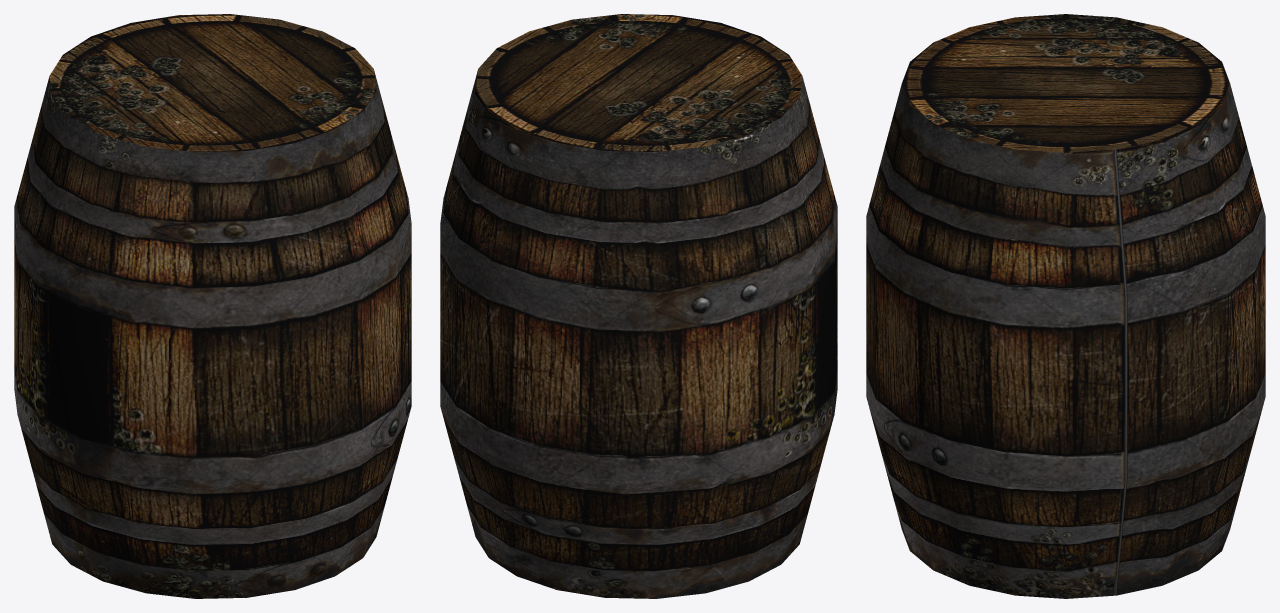
Rendered from 00_PL_Barrell.fbx.
3 views of the same model, side by side, from view 1: azimuth 30°, elevation 25°; view 2: azimuth 150°, elevation 25°; view 3: azimuth 270°, elevation 25° (orthographic).
Visible parts, largest first — view 1: Barrell; view 2: Barrell; view 3: Barrell.
Part boxes in pixels (x1,y1,x2,y2): Barrell: [14, 14, 411, 598]; Barrell: [440, 14, 837, 598]; Barrell: [866, 14, 1265, 598].
Bounding box in the file's own units: 122 × 150 × 122.
1 material, 1 textured.
